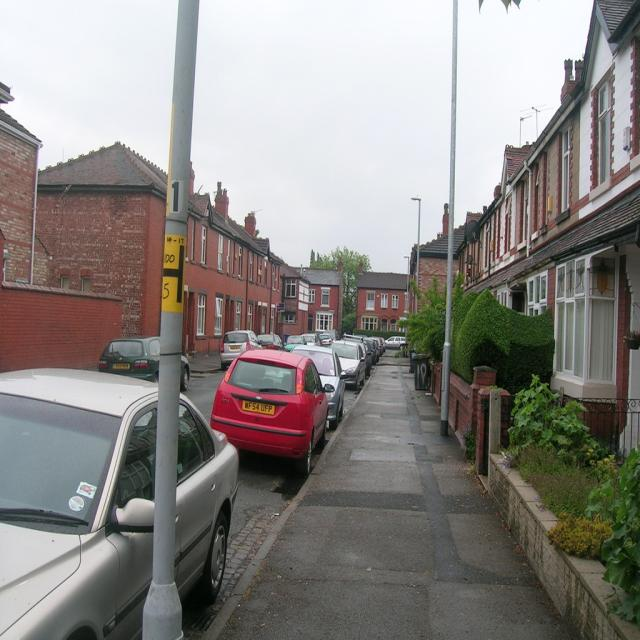car: (10, 351, 232, 632)
